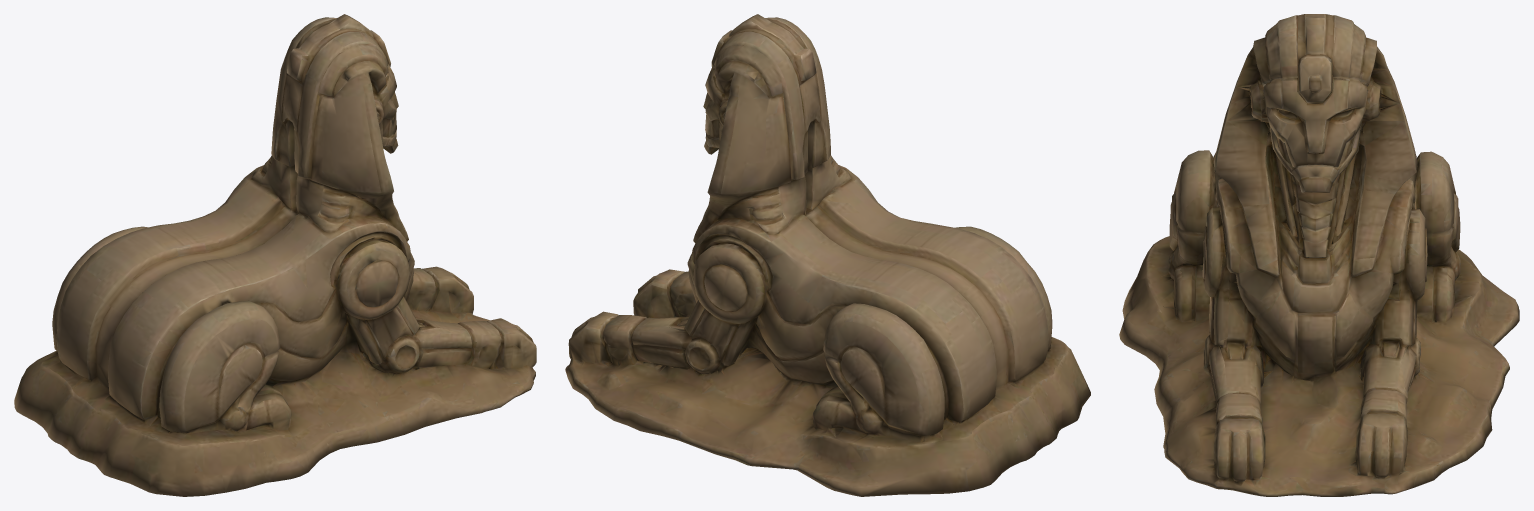
File: sphinxStatue.glb
The picture shows the model from 3 angles, left to right: view 1: azimuth 30°, elevation 25°; view 2: azimuth 150°, elevation 25°; view 3: azimuth 270°, elevation 25°; orthographic projection. The views are drawn at different scales.
Visible parts, largest first — view 1: tripo_node_151c670d-def4-4296-80ac-02cbcbd2c03f; view 2: tripo_node_151c670d-def4-4296-80ac-02cbcbd2c03f; view 3: tripo_node_151c670d-def4-4296-80ac-02cbcbd2c03f.
Part boxes in pixels (x1,y1,x2,y2): tripo_node_151c670d-def4-4296-80ac-02cbcbd2c03f: (14, 14, 536, 496); tripo_node_151c670d-def4-4296-80ac-02cbcbd2c03f: (565, 14, 1090, 496); tripo_node_151c670d-def4-4296-80ac-02cbcbd2c03f: (1119, 14, 1519, 496).
Bounding box in the file's own units: 0.998 × 0.7755 × 0.7129.
1 material, 1 textured.
